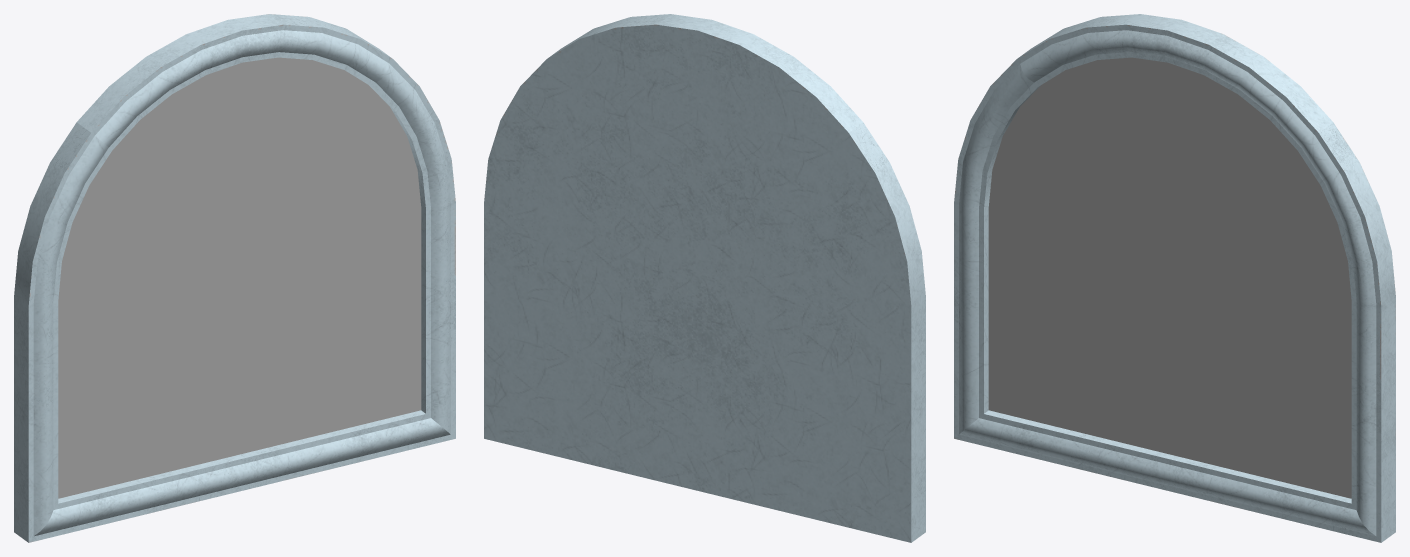
Rendered from SM_prop_Stage1_Mirror.fbx.
The picture shows the model from 3 angles, left to right: view 1: azimuth 30°, elevation 25°; view 2: azimuth 150°, elevation 25°; view 3: azimuth 330°, elevation 25°; orthographic projection.
Visible parts, largest first — view 1: SM_prop_Stage1_Mirror; view 2: SM_prop_Stage1_Mirror; view 3: SM_prop_Stage1_Mirror.
Part boxes in pixels (x1=…): SM_prop_Stage1_Mirror: x1=14, y1=14, x2=455, y2=542; SM_prop_Stage1_Mirror: x1=484, y1=14, x2=925, y2=542; SM_prop_Stage1_Mirror: x1=954, y1=14, x2=1395, y2=542.
Size of the model in its own units: 143 by 147 by 9.96.
1 material, 1 textured.
